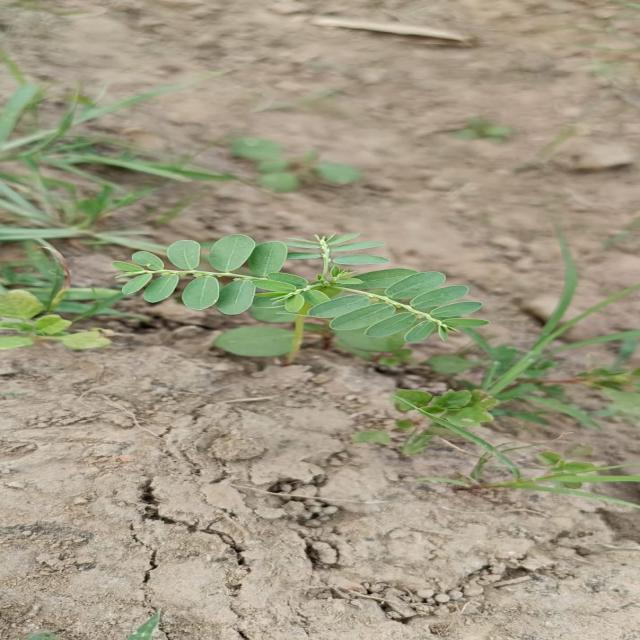plant: (110, 233, 487, 364)
